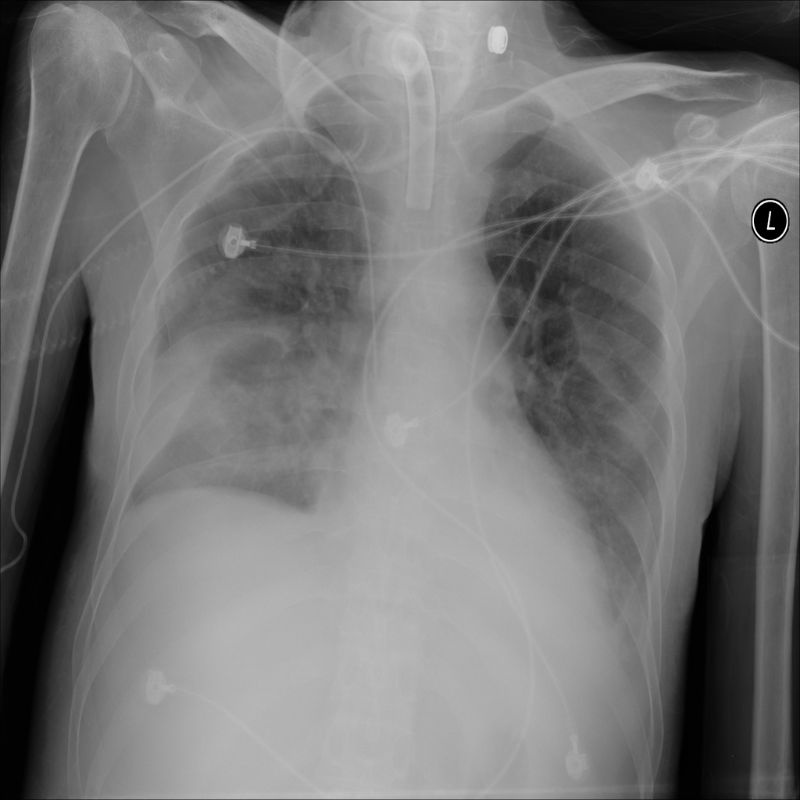PLEURAL EFFUSION: (107, 331, 229, 595)
